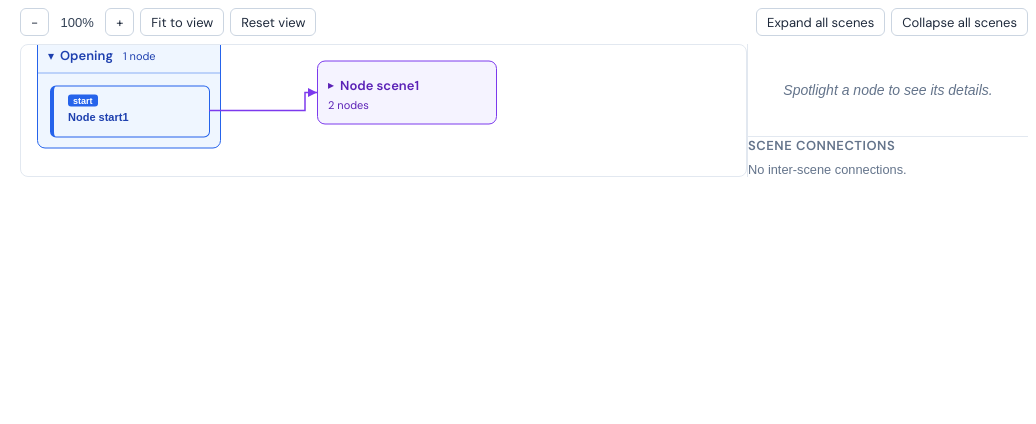
it: CanvasView — spotlight and sidebar › opens a collapsed scene when a NodeDetail choice leads into it
This screenshot has width=1036, height=424.
Click the button with aria-label "Node start1 (start)".
click(130, 112)  # box [50,86,210,138]
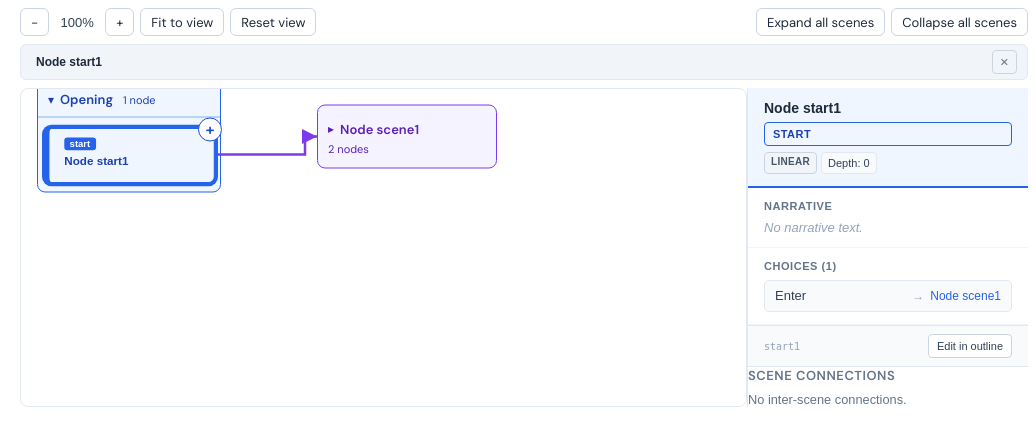
Click the button "Enter → Node scene1".
click(888, 296)  # box [764,280,1012,312]
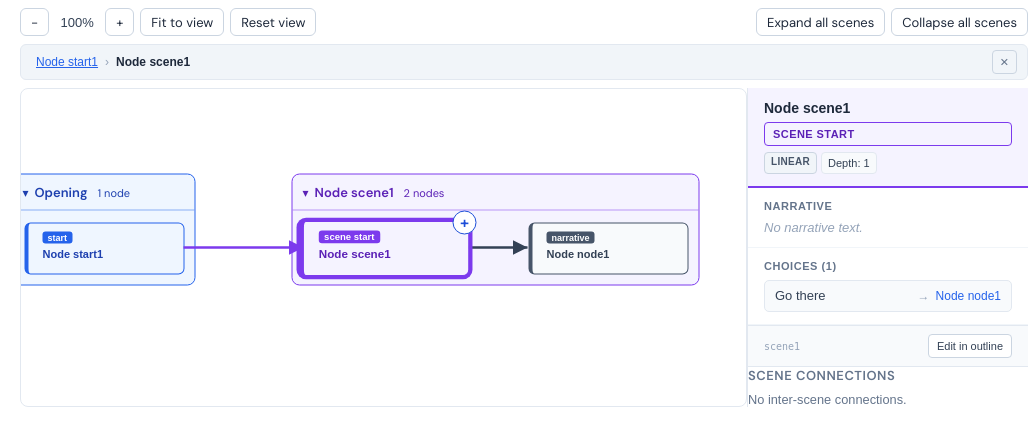
Expected: the button "▾ Node scene1 2 nodes" is expanded, [292,174,698,210]
Expected: the text "scene1" is shown, [764,341,800,352]
